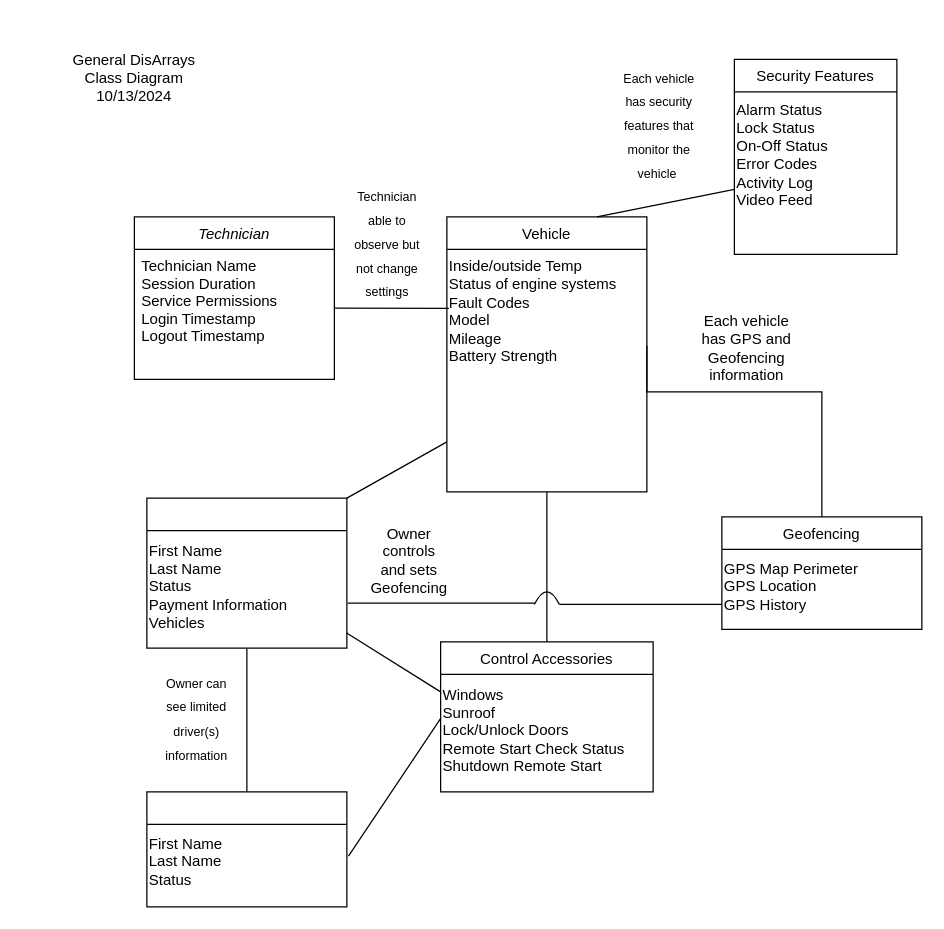
Image size: 944x929. Some labels were removed from this diagram. Here are the shapes that lost their labels. From the top down, the box of each, then its label:
(146, 497, 347, 648): Owner
(146, 791, 347, 907): Driver
